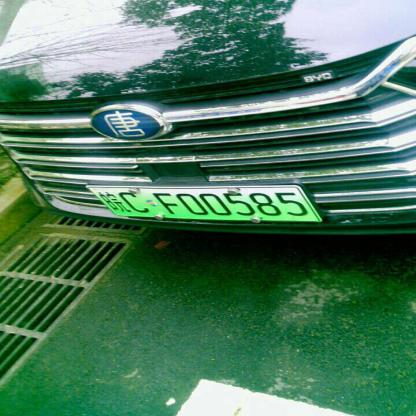lp: (88, 186, 320, 219)
